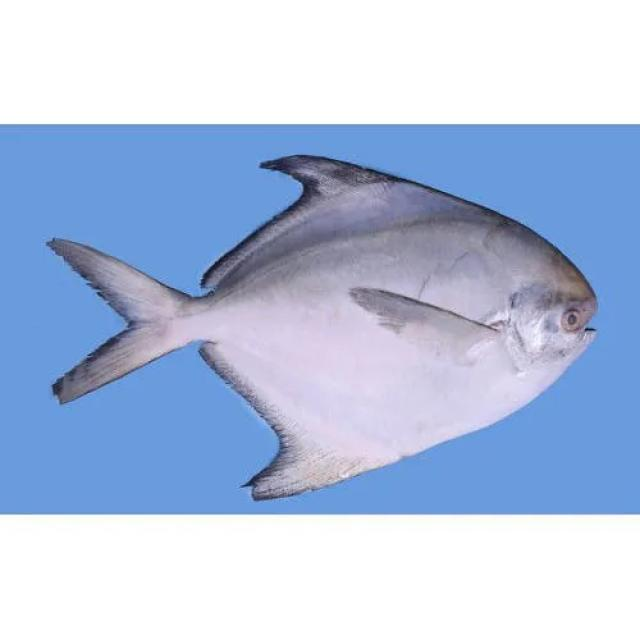pomfred: (47, 153, 604, 499)
